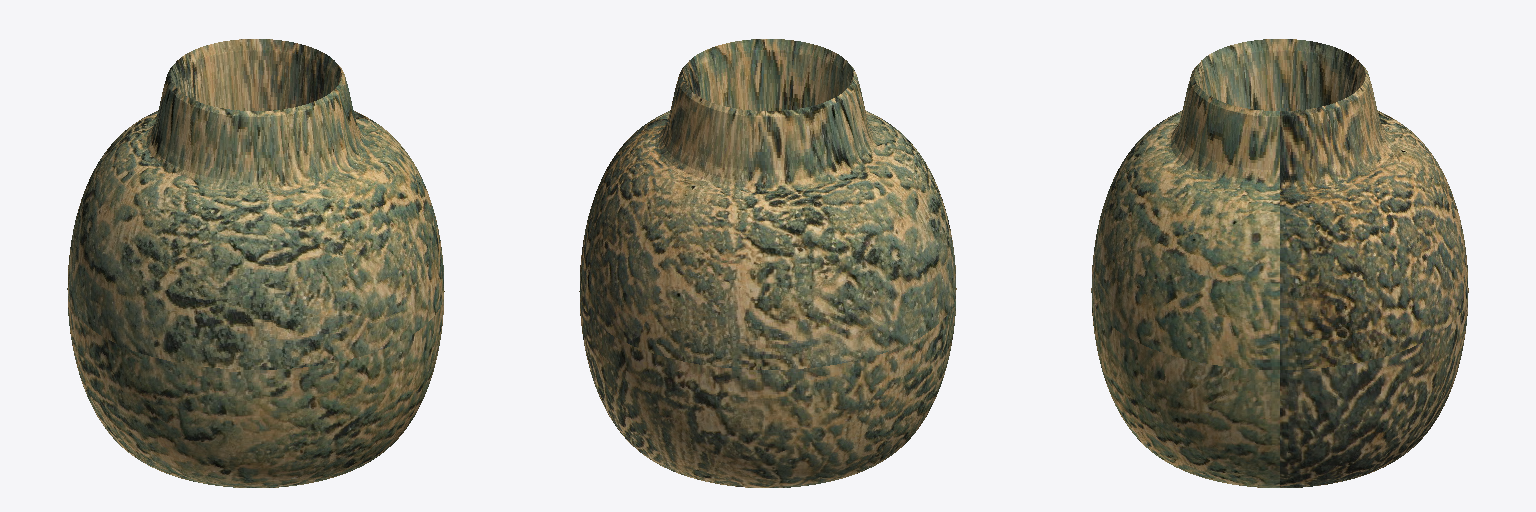
The picture shows the model from 3 angles: view 1: azimuth 30°, elevation 25°; view 2: azimuth 150°, elevation 25°; view 3: azimuth 270°, elevation 25°; orthographic projection.
Parts seen in each view (by area): view 1: Torus; view 2: Torus; view 3: Torus.
Boxes of the visible parts, <box> form: Torus: <box>67,39,444,487</box>; Torus: <box>579,39,956,487</box>; Torus: <box>1091,39,1468,487</box>.
Bounding box in the file's own units: 1.98 × 2.1 × 1.98.
Materials: 1 (1 with a texture image).